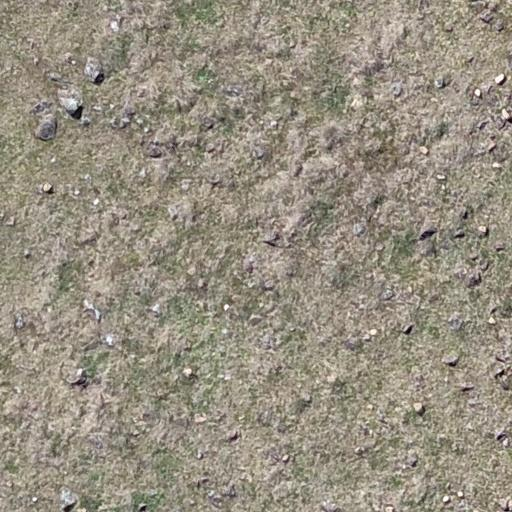stone: (36, 114, 59, 141), (83, 57, 105, 85), (58, 92, 81, 118), (417, 215, 437, 242), (29, 100, 54, 117), (78, 233, 99, 247), (446, 314, 463, 331), (257, 410, 273, 426), (199, 116, 215, 132), (464, 272, 480, 288), (342, 337, 360, 351), (260, 278, 276, 293), (223, 86, 242, 98), (63, 496, 78, 511), (147, 144, 163, 158), (441, 355, 459, 367), (251, 146, 266, 160), (208, 173, 222, 188), (390, 81, 403, 97), (259, 334, 273, 348), (179, 178, 193, 192), (122, 103, 136, 117), (380, 288, 394, 301), (494, 72, 507, 85), (354, 224, 367, 237), (118, 116, 131, 129), (300, 391, 312, 405), (292, 164, 304, 178), (412, 402, 426, 414), (479, 10, 493, 22), (460, 382, 476, 392), (434, 76, 446, 89), (250, 315, 264, 326), (42, 182, 54, 194), (196, 477, 209, 488), (197, 278, 208, 290), (494, 21, 506, 32), (402, 322, 413, 334), (501, 108, 511, 121), (444, 20, 454, 33), (226, 432, 239, 442), (468, 250, 479, 261), (186, 266, 196, 278), (454, 229, 466, 239), (495, 428, 507, 438), (222, 488, 236, 496), (182, 368, 193, 378), (488, 304, 499, 314), (466, 52, 475, 64), (109, 116, 118, 128), (478, 225, 488, 235), (494, 242, 504, 252), (458, 208, 468, 218), (493, 368, 503, 378), (204, 144, 215, 153), (419, 146, 429, 155), (481, 261, 490, 271), (408, 456, 417, 466), (353, 445, 363, 454), (23, 248, 31, 259), (436, 174, 447, 182), (474, 88, 482, 98), (488, 143, 496, 153), (7, 216, 15, 226), (282, 454, 290, 463), (362, 333, 371, 341), (93, 199, 102, 207), (137, 503, 147, 510), (197, 452, 204, 462), (488, 316, 496, 324), (369, 328, 377, 336), (456, 489, 464, 497), (443, 496, 451, 504), (491, 162, 501, 168), (384, 506, 393, 512), (137, 119, 144, 125), (144, 126, 150, 132), (134, 430, 140, 436)
